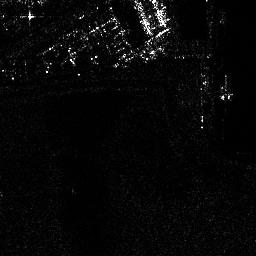ship: (219, 73, 232, 101)
